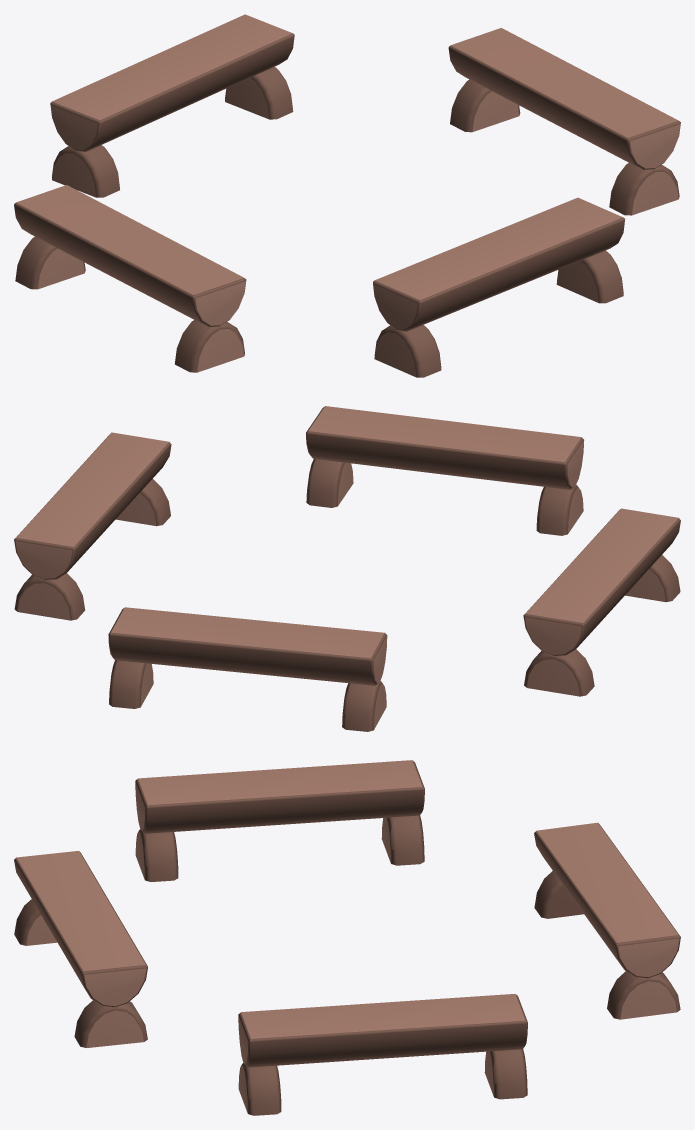
File: LogBenches.fbx
The picture shows the model from 3 angles, top to bottom: view 1: azimuth 30°, elevation 25°; view 2: azimuth 150°, elevation 25°; view 3: azimuth 270°, elevation 25°; orthographic projection. The views are drawn at different scales.
Parts seen in each view (by area): view 1: LogBenches; view 2: LogBenches; view 3: LogBenches.
Part boxes in pixels (<box>): LogBenches: <box>14,14,680,377</box>; LogBenches: <box>14,406,680,731</box>; LogBenches: <box>14,760,680,1115</box>.
Bounding box in the file's own units: 5.24 × 0.6606 × 5.26.
